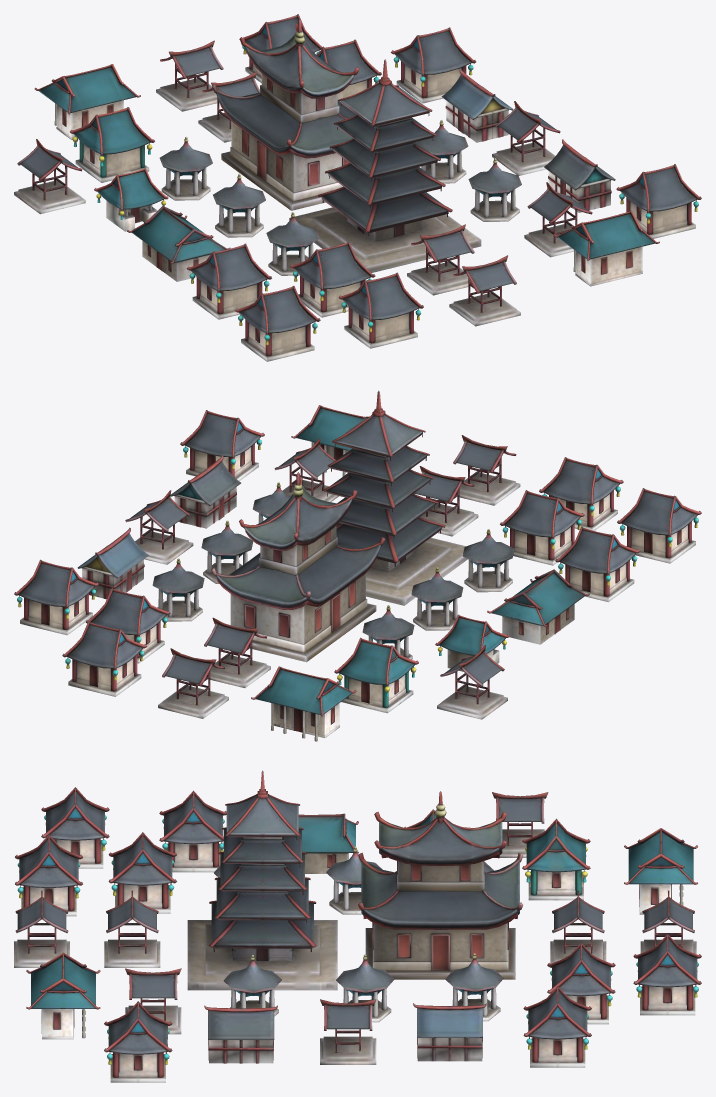
Rendered from city_chinese_3.glb.
The picture shows the model from 3 angles, top to bottom: view 1: azimuth 30°, elevation 25°; view 2: azimuth 150°, elevation 25°; view 3: azimuth 270°, elevation 25°; orthographic projection. The views are drawn at different scales.
Visible parts, largest first — view 1: low.041, low.038, low.061, low.073, low.059, low.045, low.042, low.069, low.057, low.064, low.039, low.060 (+17 smaller); view 2: low.038, low.041, low.064, low.056, low.057, low.039, low.045, low.073, low.042, low.060, low.069, low.059 (+18 smaller); view 3: low.038, low.041, low.061, low.056, low.057, low.069, low.045, low.042, low.064, low.048, low.049, low.060 (+15 smaller).
Part boxes in pixels (x1=…): low.041: x1=289, y1=59, x2=481, y2=272; low.038: x1=212, y1=19, x2=359, y2=210; low.061: x1=553, y1=210, x2=659, y2=286; low.073: x1=235, y1=286, x2=320, y2=361; low.059: x1=338, y1=272, x2=423, y2=348; low.045: x1=70, y1=107, x2=154, y2=182; low.042: x1=186, y1=243, x2=271, y2=319; low.069: x1=616, y1=164, x2=701, y2=238; low.057: x1=391, y1=27, x2=476, y2=103; low.064: x1=34, y1=64, x2=140, y2=139; low.039: x1=127, y1=206, x2=230, y2=281; low.060: x1=290, y1=241, x2=375, y2=317; low.038: x1=211, y1=472, x2=385, y2=662; low.041: x1=323, y1=390, x2=467, y2=605; low.064: x1=251, y1=666, x2=356, y2=741; low.056: x1=62, y1=621, x2=147, y2=696; low.057: x1=14, y1=559, x2=98, y2=635; low.039: x1=487, y1=569, x2=589, y2=644; low.045: x1=334, y1=637, x2=418, y2=713; low.073: x1=617, y1=488, x2=701, y2=563; low.042: x1=555, y1=526, x2=639, y2=602; low.060: x1=500, y1=490, x2=584, y2=565; low.069: x1=180, y1=410, x2=264, y2=481; low.059: x1=539, y1=457, x2=623, y2=530; low.038: x1=358, y1=791, x2=522, y2=979; low.041: x1=187, y1=770, x2=337, y2=990; low.061: x1=26, y1=952, x2=100, y2=1039; low.056: x1=633, y1=933, x2=701, y2=1015; low.057: x1=523, y1=986, x2=591, y2=1067; low.069: x1=104, y1=1001, x2=172, y2=1082; low.045: x1=522, y1=818, x2=590, y2=900; low.042: x1=159, y1=790, x2=226, y2=872; low.064: x1=624, y1=828, x2=697, y2=914; low.048: x1=204, y1=1005, x2=277, y2=1063; low.049: x1=413, y1=1003, x2=486, y2=1061; low.060: x1=108, y1=832, x2=176, y2=913.
Bounding box in the file's own units: 38.52 × 13.6 × 44.72.
Materials: 3 (3 with a texture image).
